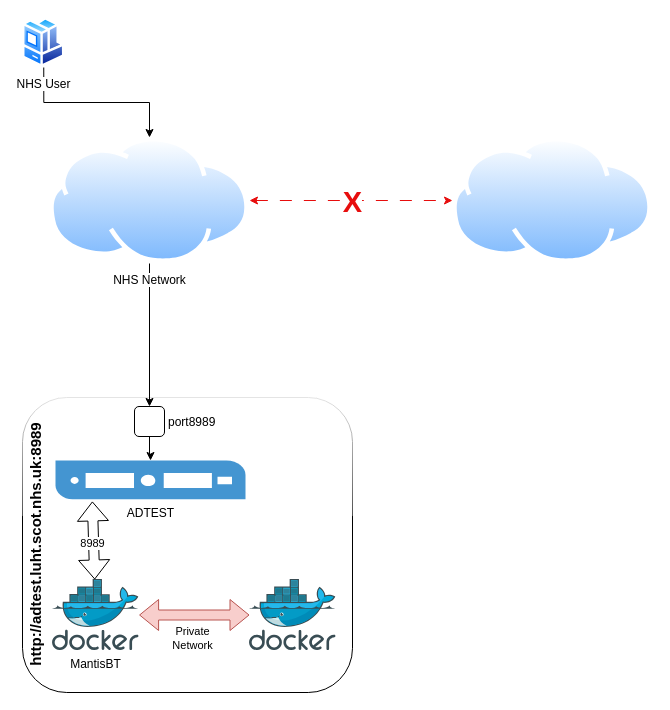
This 670x710 diagram has some shape labels left out. The centre of each missing label's shape, as x and y in pixels:
"External" belongs at pixel 552 200.
"MantisBT SQL" belongs at pixel 292 614.
